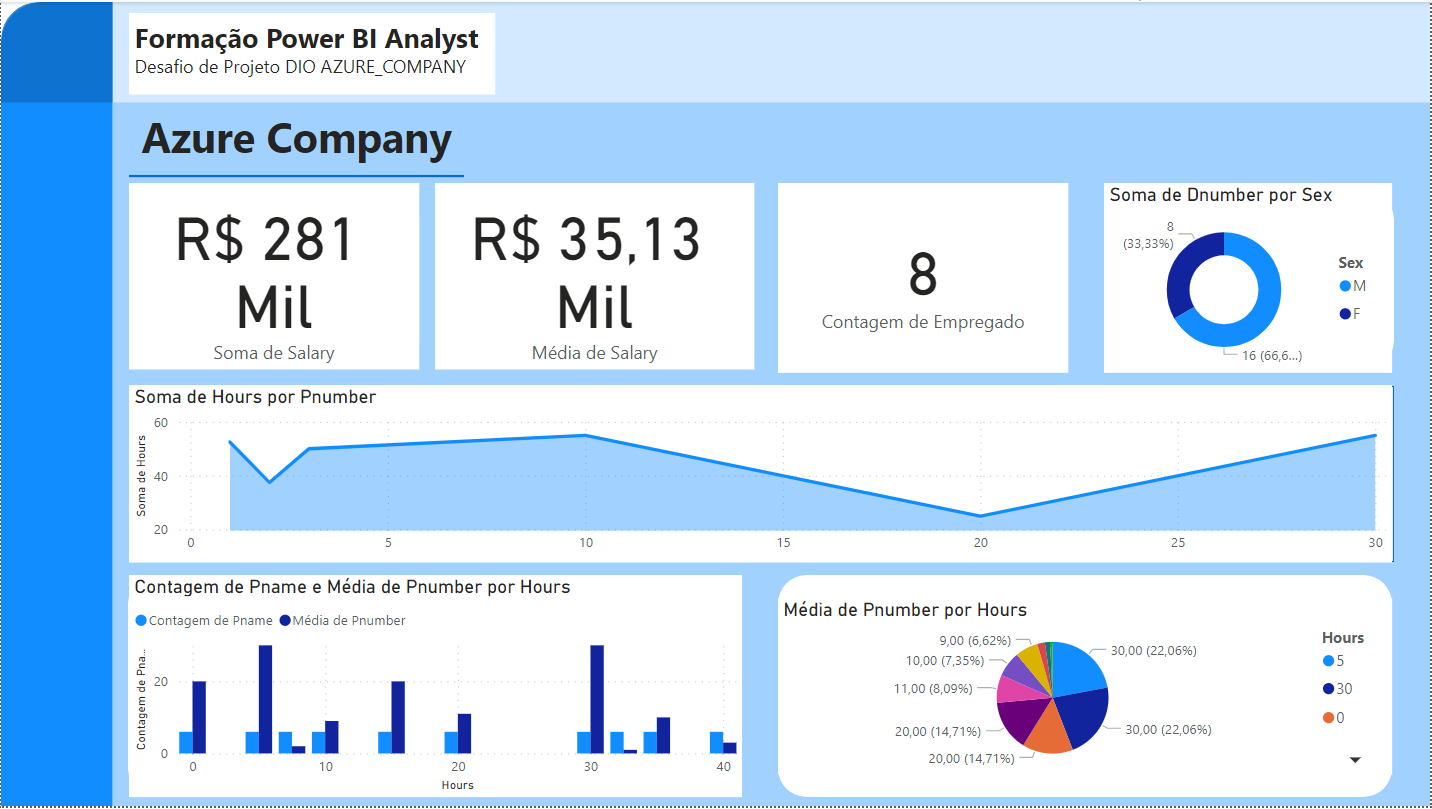

This screenshot's page, from the dashboard's own definition file:
{"tool":"powerbi","page":{"name":"Página 1","canvas":[1280,720],"ordinal":0},"visuals":[{"type":"group","id":"g1","title":"Group 1","box":[0,0,1327.6,736.7],"z":0},{"type":"shape","box":[0,0,1327.6,736.7],"z":0,"group":"g1"},{"type":"shape","box":[0,0,100.1,736.7],"z":1000,"group":"g1"},{"type":"textbox","box":[114.7,90.4,300.3,59.3],"z":1000},{"type":"shape","box":[0,0,100.1,90.4],"z":2000,"group":"g1"},{"type":"shape","box":[114.7,169.1,260,159.4],"z":2000},{"type":"shape","box":[100.1,0,1226.5,90.4],"z":3000,"group":"g1"},{"type":"shape","box":[114.7,149.7,300.3,12.6],"z":3000},{"type":"textbox","box":[114.7,9.7,327.5,72.9],"z":4000,"group":"g1"},{"type":"shape","box":[403.9,169.3,259.7,159.4],"z":4000},{"type":"shape","box":[695.8,169.3,259.7,159.4],"z":5000},{"type":"shape","box":[987.8,169.3,259.7,159.4],"z":6000},{"type":"shape","box":[114.6,343.9,1132.8,157.6],"z":7000},{"type":"shape","box":[113.7,513.1,549.9,198.8],"z":8000},{"type":"shape","box":[695.8,513.1,549.9,198.8],"z":9000},{"type":"pieChart","fields":{"Category":["azure_company works_on.Hours"],"Y":["Avg(azure_company works_on.Pnumber)"]},"box":[695.8,533.7,549.9,157.6],"z":10000},{"type":"card","fields":{"Values":["Sum(azure_company employee.Salary)"]},"box":[114.6,162.1,259.7,166.6],"z":11000},{"type":"areaChart","fields":{"Y":["Sum(azure_company works_on.Hours)"],"Category":["azure_company works_on.Pnumber"]},"box":[114.6,343,1131,159.4],"z":12000},{"type":"clusteredColumnChart","fields":{"Category":["azure_company works_on.Hours"],"Y":["CountNonNull(azure_company project.Pname)","Avg(azure_company works_on.Pnumber)"]},"box":[114.6,513.1,549,198.8],"z":13000},{"type":"card","fields":{"Values":["Count(azure_company Ger_Func.Empregado)"]},"box":[695.8,162.1,259.7,170.1],"z":14000},{"type":"card","fields":{"Values":["Avg(azure_company employee.Salary)"]},"box":[388.7,162.1,285.7,166.6],"z":15000},{"type":"donutChart","fields":{"Y":["Sum(azure_company project.Dnumber)"],"Category":["azure_company employee.Sex"]},"box":[987.8,162.1,257.9,170.1],"z":16000}]}

Visuals, with their boxes in screenshot pixels (x1, y1, x2, y2), scaled from the page's 1280x720 canvas onto the 1432x809 screenshot:
"Group 1" group: left=0, top=0, right=1431, bottom=808
shape: left=0, top=0, right=1431, bottom=808
shape: left=0, top=0, right=112, bottom=808
textbox: left=128, top=102, right=464, bottom=168
shape: left=0, top=0, right=112, bottom=102
shape: left=128, top=190, right=419, bottom=369
shape: left=112, top=0, right=1431, bottom=102
shape: left=128, top=168, right=464, bottom=182
textbox: left=128, top=11, right=495, bottom=93
shape: left=452, top=190, right=742, bottom=369
shape: left=778, top=190, right=1069, bottom=369
shape: left=1105, top=190, right=1396, bottom=369
shape: left=128, top=386, right=1396, bottom=563
shape: left=127, top=577, right=742, bottom=800
shape: left=778, top=577, right=1394, bottom=800
pieChart - azure_company works_on.Hours x Avg(azure_company works_on.Pnumber): left=778, top=600, right=1394, bottom=777
card - Sum(azure_company employee.Salary): left=128, top=182, right=419, bottom=369
areaChart - Sum(azure_company works_on.Hours) x azure_company works_on.Pnumber: left=128, top=385, right=1394, bottom=565
clusteredColumnChart - azure_company works_on.Hours x CountNonNull(azure_company project.Pname): left=128, top=577, right=742, bottom=800
card - Count(azure_company Ger_Func.Empregado): left=778, top=182, right=1069, bottom=373
card - Avg(azure_company employee.Salary): left=435, top=182, right=754, bottom=369
donutChart - Sum(azure_company project.Dnumber) x azure_company employee.Sex: left=1105, top=182, right=1394, bottom=373
